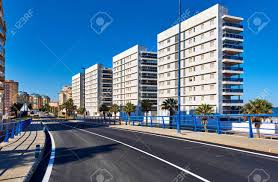strada: (45, 119, 275, 181)
